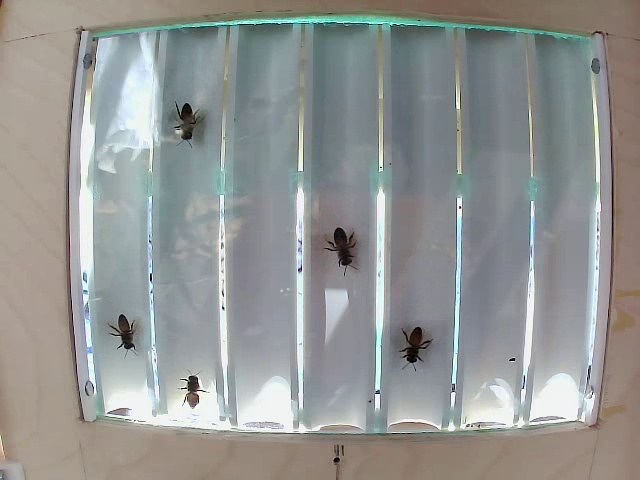bee: (173, 369, 212, 405), (398, 323, 430, 366), (170, 106, 206, 141), (328, 223, 357, 266), (110, 323, 146, 351)
